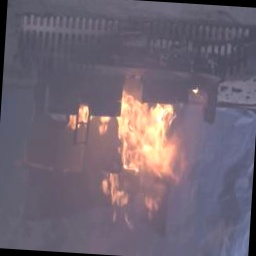fire: (96, 101, 193, 225)
